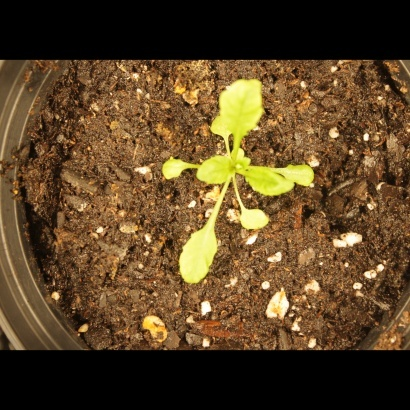leaf: (177, 218, 221, 292), (216, 72, 266, 136), (242, 166, 297, 203), (156, 149, 193, 186), (196, 156, 237, 189), (235, 203, 274, 235), (278, 161, 320, 186), (208, 112, 243, 142)
